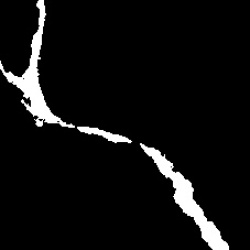crack: (3, 3, 229, 246)
